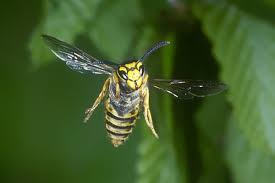chax: (41, 31, 216, 152)
